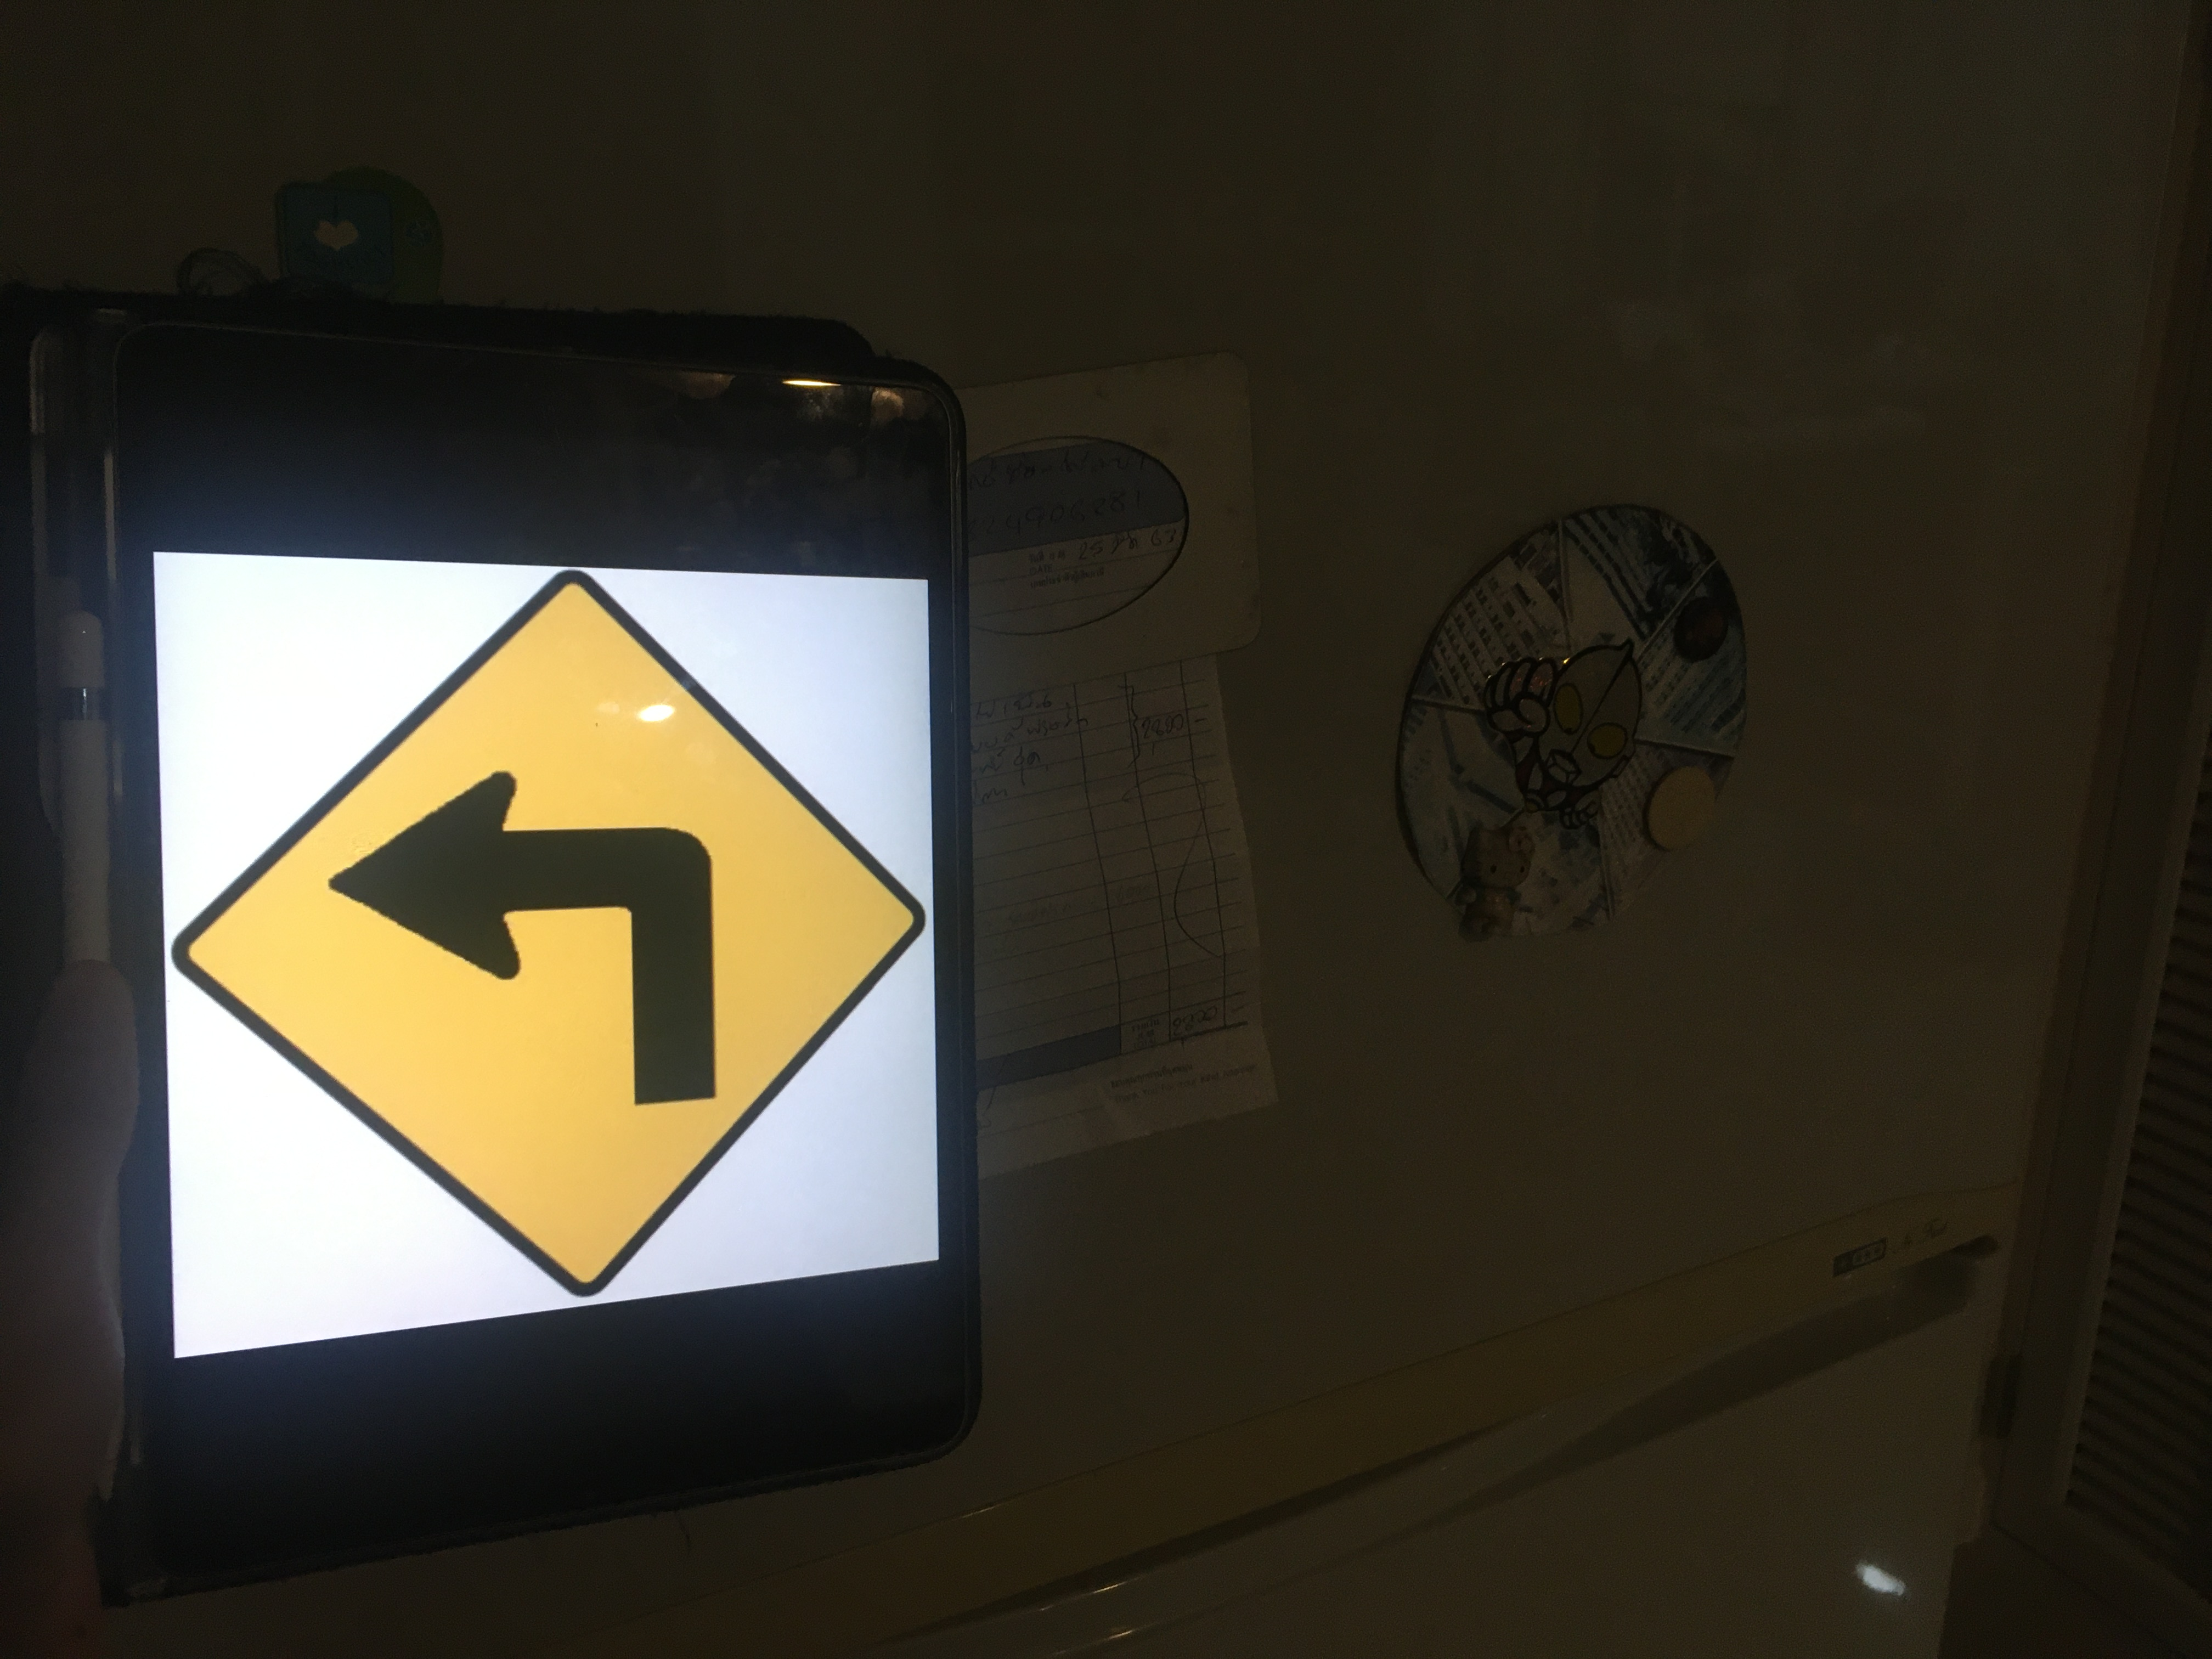left: (155, 560, 935, 1311)
